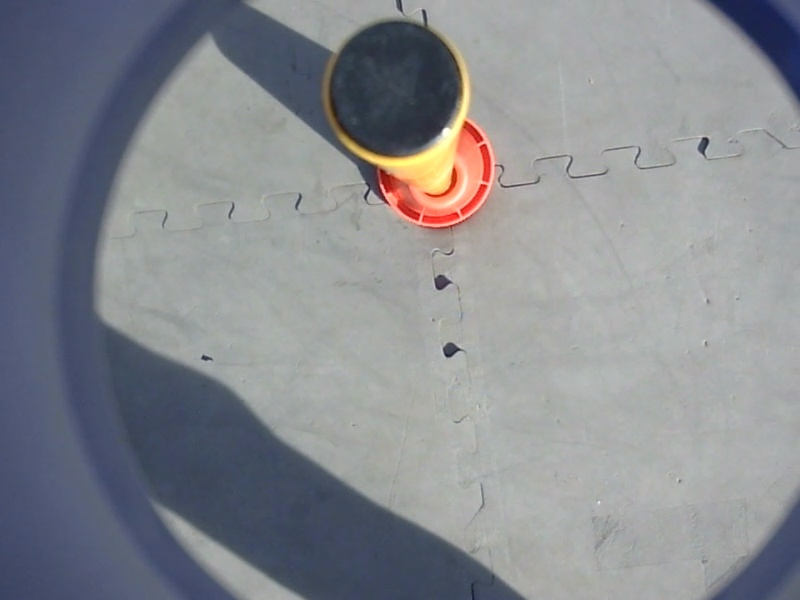tip: (316, 15, 477, 173)
